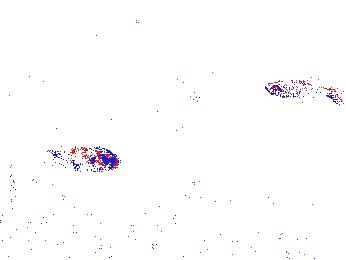X-ray fish: (61, 142, 121, 174)
redtail glassfish: (263, 76, 345, 108), (258, 195, 335, 218)
